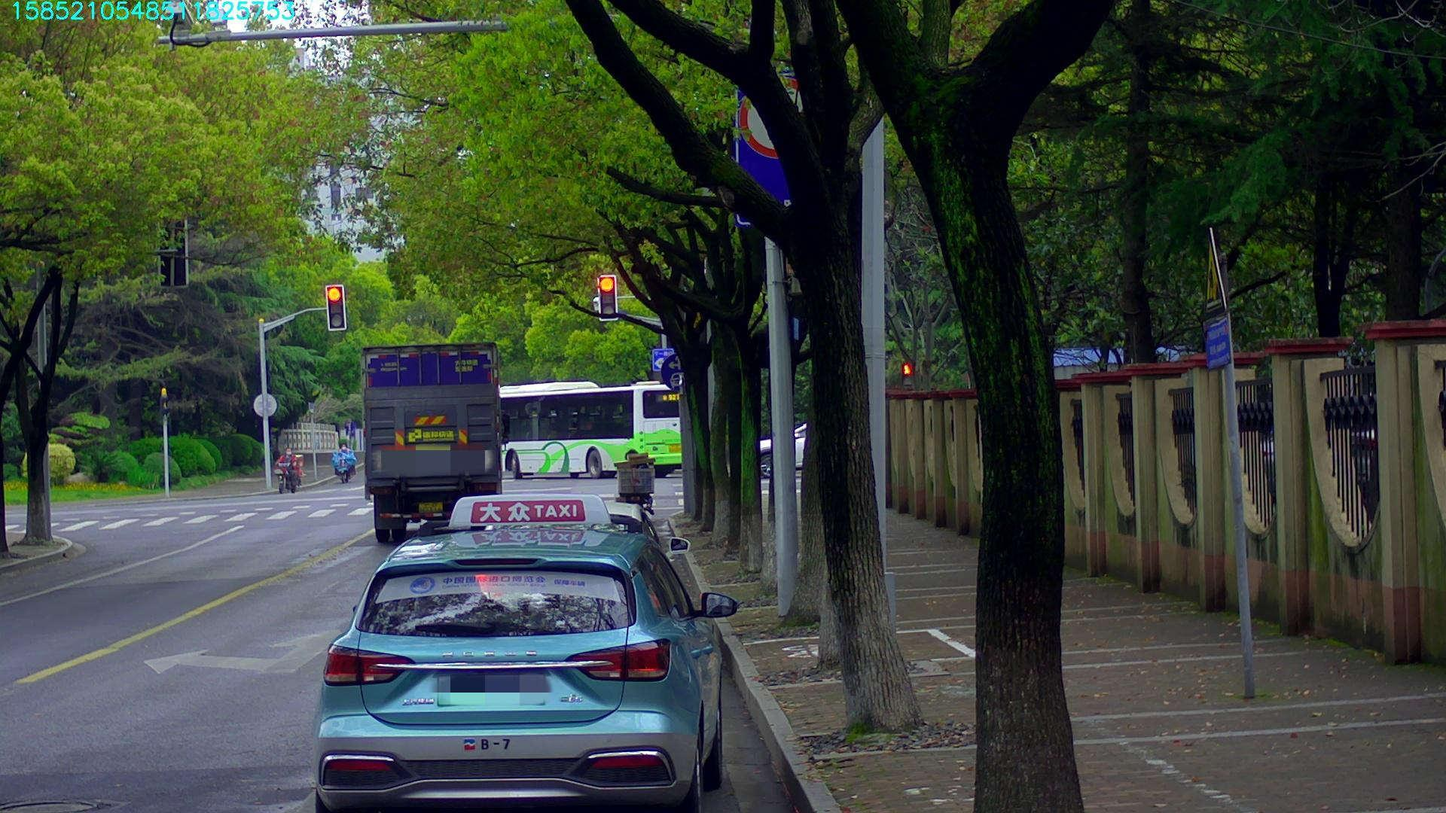red: (325, 285, 345, 330), (598, 274, 617, 318)
